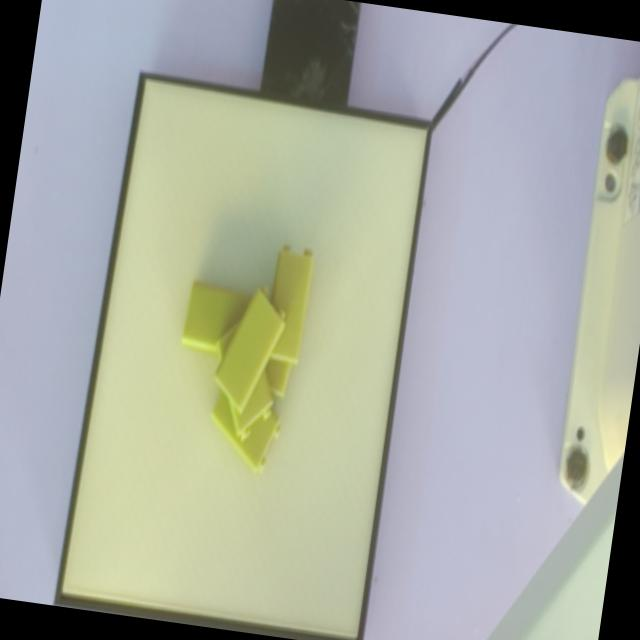bateria: (215, 284, 287, 414)
mesa: (53, 70, 434, 640)
